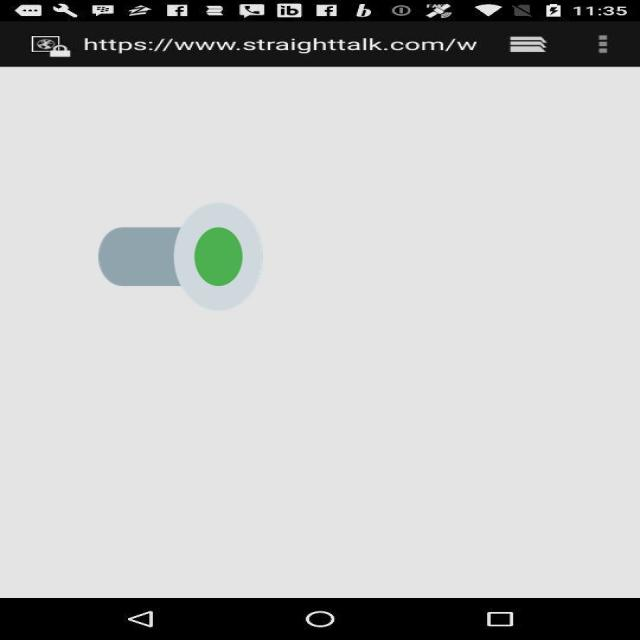social proof: (98, 156, 263, 357)
